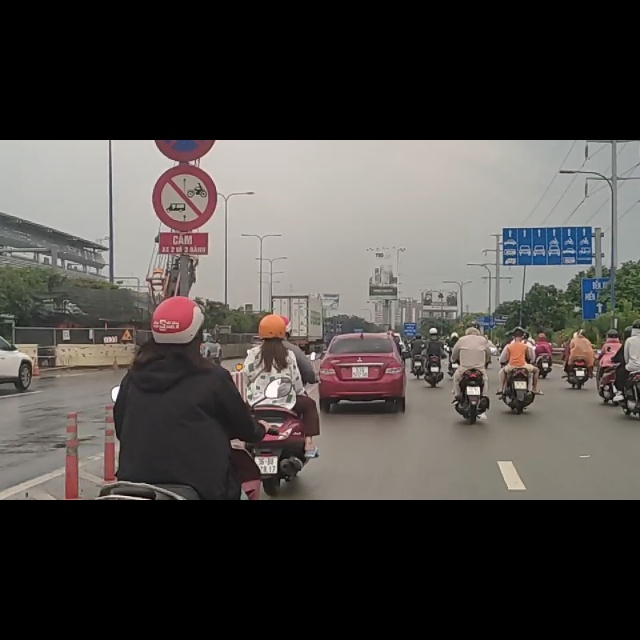bien_chi_dan: (153, 46, 216, 159)
